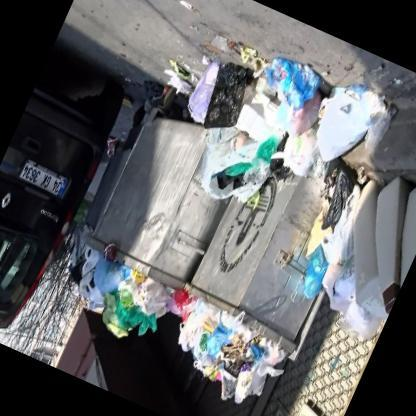Garbage: (160, 51, 312, 218), (232, 46, 384, 200), (160, 298, 290, 413), (56, 242, 182, 348), (277, 187, 370, 315)
